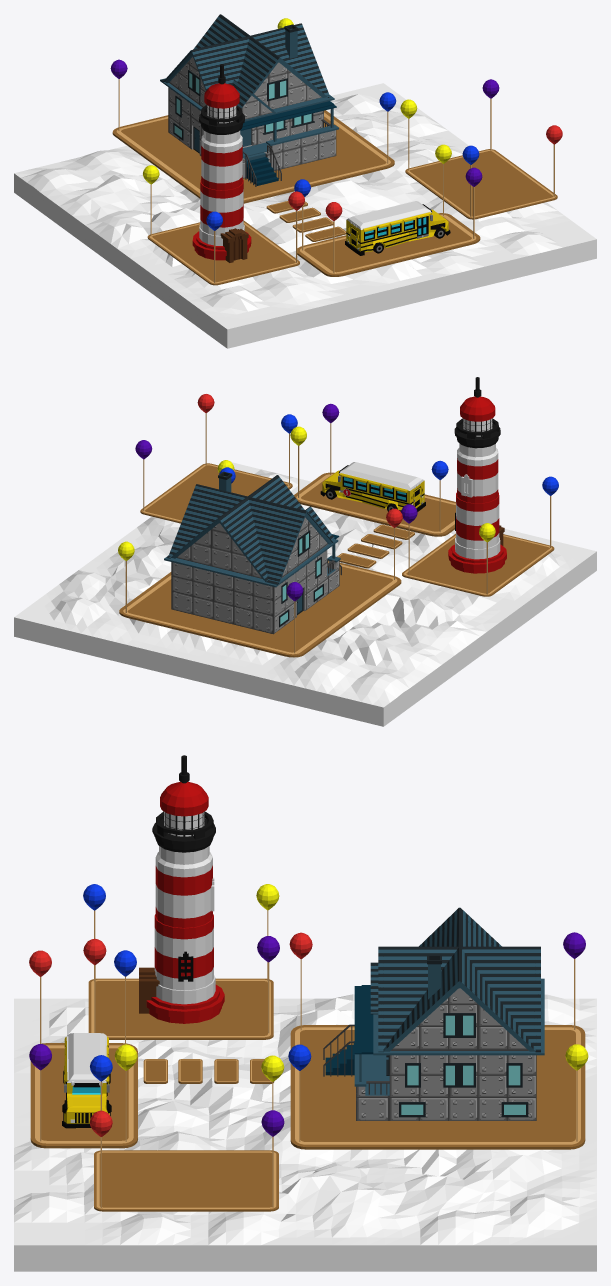
The picture shows the model from 3 angles, top to bottom: view 1: azimuth 30°, elevation 25°; view 2: azimuth 150°, elevation 25°; view 3: azimuth 270°, elevation 25°; orthographic projection. The views are drawn at different scales.
Parts seen in each view (by area): view 1: Cube.013, Cube.078, OBJRANDOM_LIGHTHOUSE, VEHICLES_SCHOOL_BUS; view 2: Cube.013, Cube.078, OBJRANDOM_LIGHTHOUSE, VEHICLES_SCHOOL_BUS; view 3: Cube.013, Cube.078, OBJRANDOM_LIGHTHOUSE, VEHICLES_SCHOOL_BUS.
Boxes of the visible parts, left/top/right/bottom form: Cube.013: left=14, top=18, right=596, bottom=348; Cube.078: left=160, top=14, right=338, bottom=186; OBJRANDOM_LIGHTHOUSE: left=192, top=64, right=251, bottom=262; VEHICLES_SCHOOL_BUS: left=345, top=201, right=450, bottom=255; Cube.013: left=14, top=394, right=596, bottom=726; Cube.078: left=164, top=471, right=341, bottom=634; OBJRANDOM_LIGHTHOUSE: left=448, top=377, right=506, bottom=573; VEHICLES_SCHOOL_BUS: left=320, top=462, right=425, bottom=511; Cube.013: left=14, top=884, right=596, bottom=1271; Cube.078: left=323, top=907, right=544, bottom=1120; OBJRANDOM_LIGHTHOUSE: left=139, top=755, right=224, bottom=1023; VEHICLES_SCHOOL_BUS: left=62, top=1033, right=111, bottom=1128.
Size of the model in its own units: 4000 by 2378 by 4000.
Materials: 37 (3 with a texture image).
